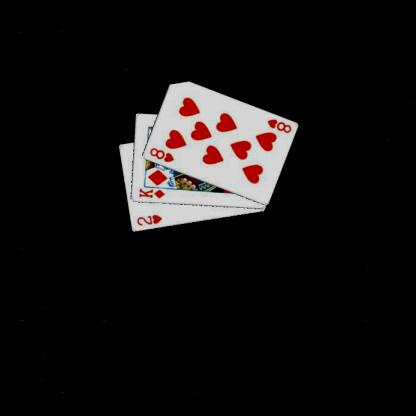2H: (134, 212, 163, 227)
8H: (147, 145, 175, 164), (264, 116, 292, 134)
KD: (136, 186, 166, 200)
